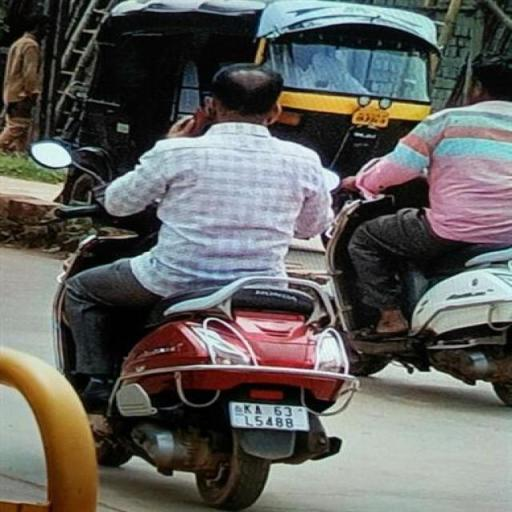numberplate: (229, 402, 311, 432)
using mobile: (172, 89, 233, 155)
